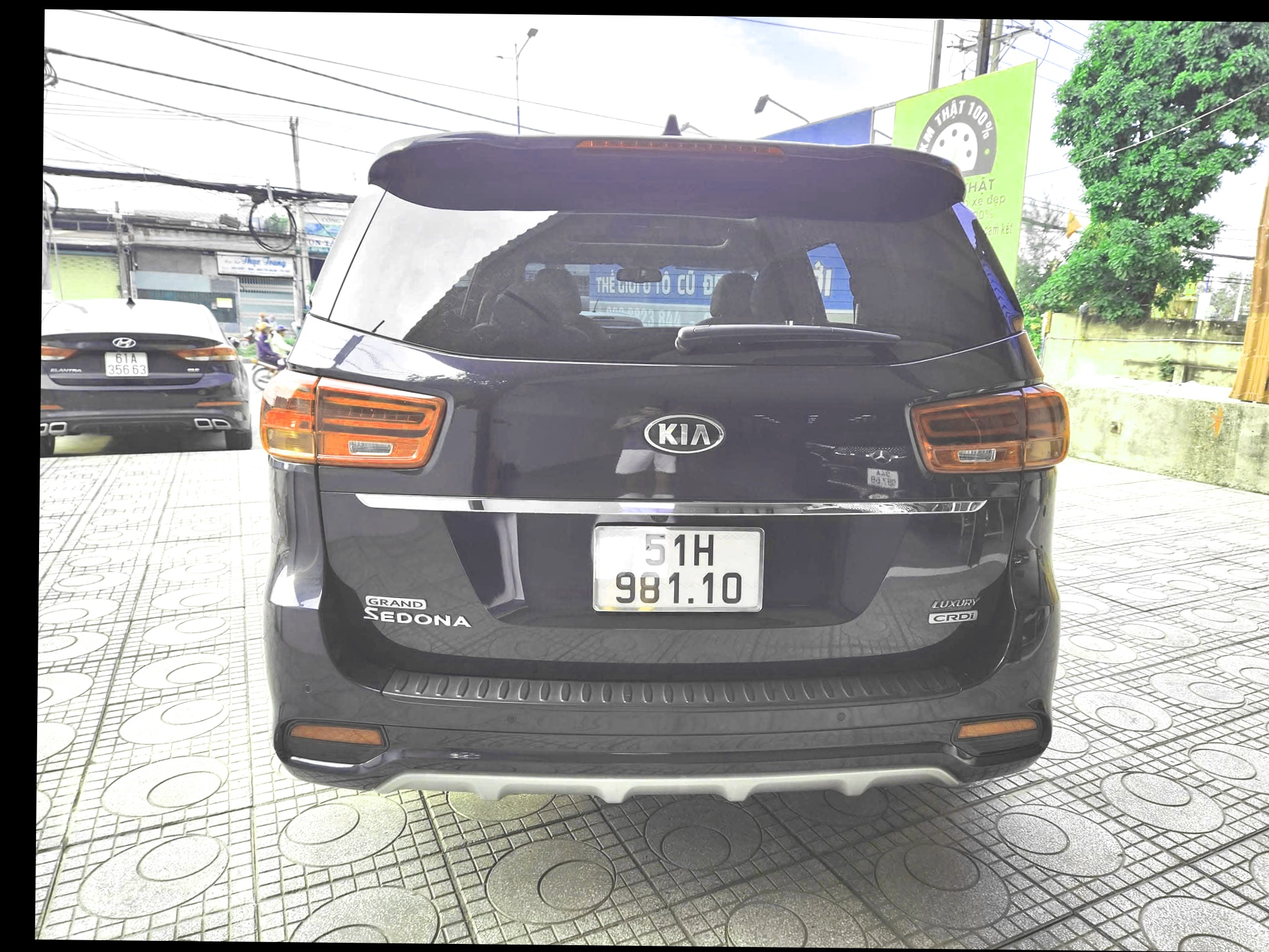Bien-so: (552, 487, 734, 601), (68, 351, 119, 390)
